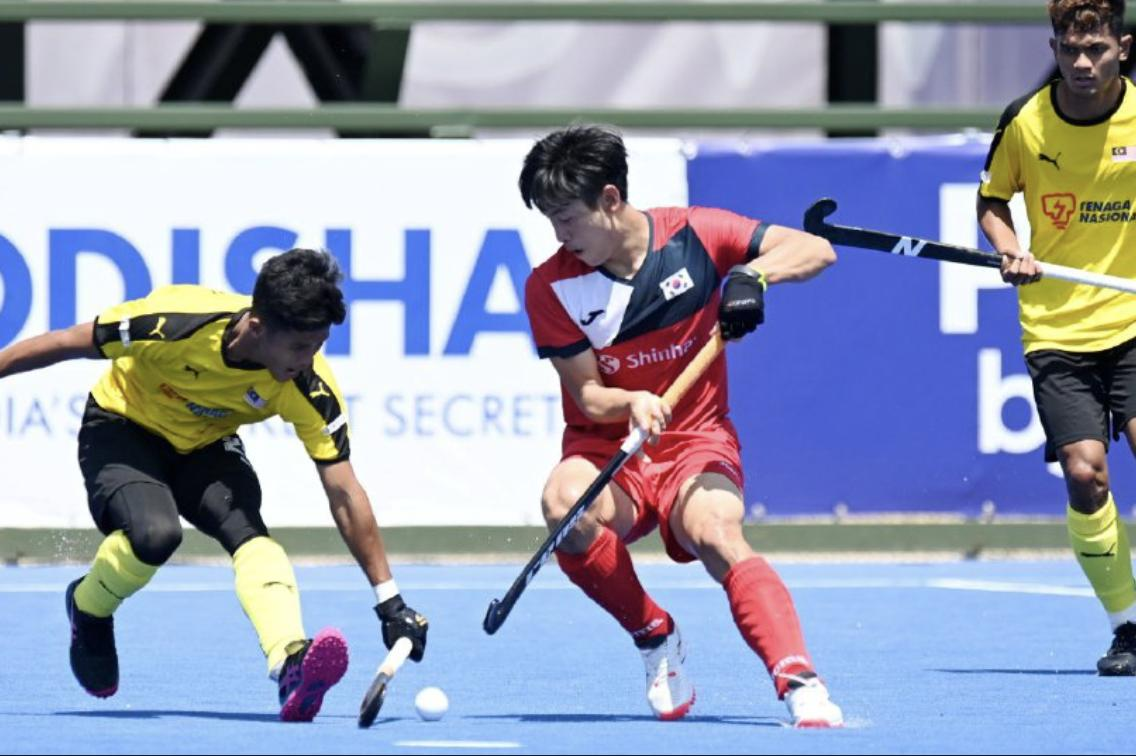ball: (413, 674, 458, 724)
